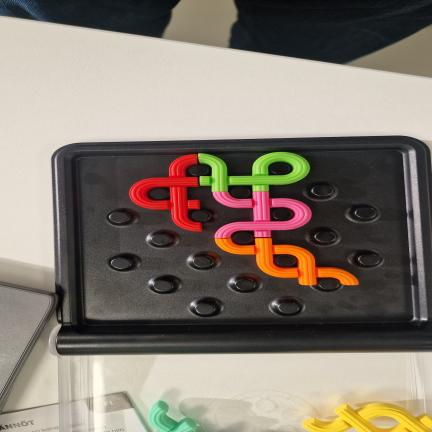E_Red: (130, 155, 202, 231)
G_Pink: (213, 192, 311, 238)
I_Orange: (215, 238, 358, 285)
K_YellowGreen: (198, 152, 309, 192)
board: (52, 136, 432, 355)
hinge: (51, 324, 432, 353)
pin: (273, 254, 297, 267), (314, 230, 336, 244), (269, 162, 292, 175), (354, 207, 376, 220), (358, 253, 380, 266), (110, 257, 132, 270), (272, 208, 293, 221), (151, 233, 172, 246), (232, 231, 253, 244), (235, 278, 256, 291), (278, 301, 299, 314), (195, 302, 216, 315), (311, 185, 333, 197), (317, 278, 339, 290), (109, 211, 129, 224), (230, 186, 251, 198), (192, 256, 213, 268), (153, 280, 174, 292), (149, 188, 169, 200), (189, 164, 209, 176), (191, 210, 211, 222)
